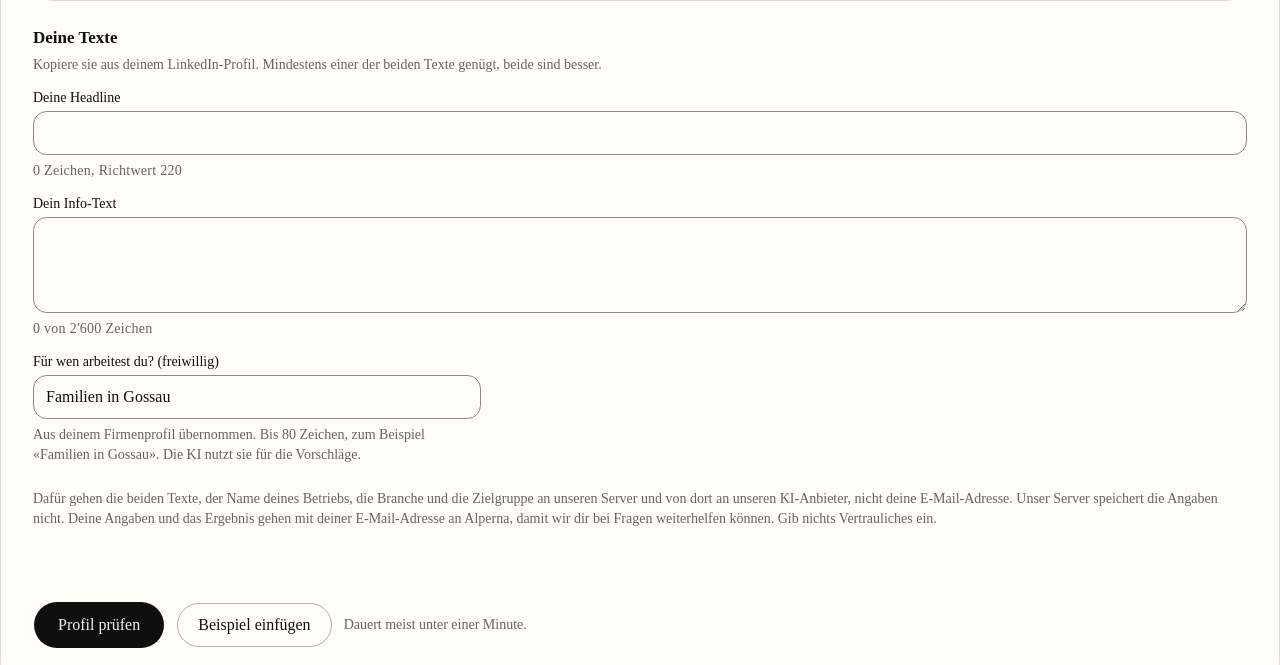
LinkedIn-Profil im Browser › wertet das Beispiel aus: Punktwert 34, Verbesserungen, drei Headlines und neuer Anfang mit Kopieren-Knöpfen, Ergebnis ins CRM
This screenshot has width=1280, height=665.
(page scrolled)
Click the button "Beispiel einfügen" at (254, 625), box [177,603,332,647]
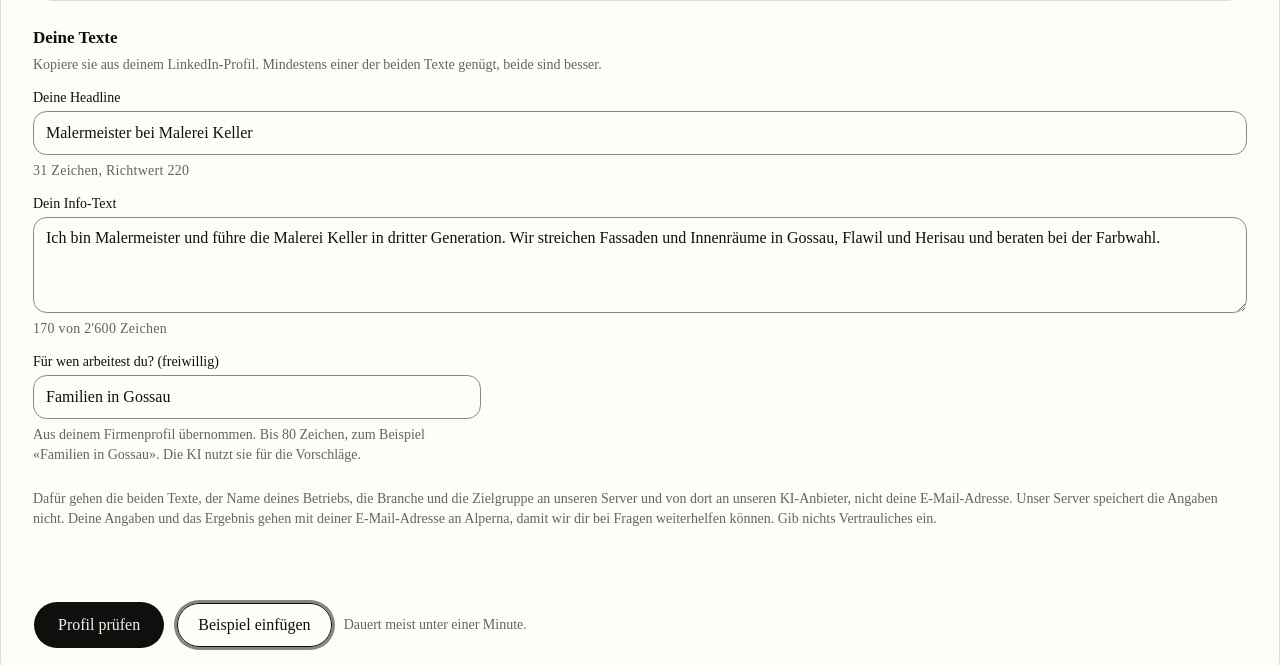
Click the button "Profil prüfen" at (99, 625), box [33,601,165,649]
(page scrolled)
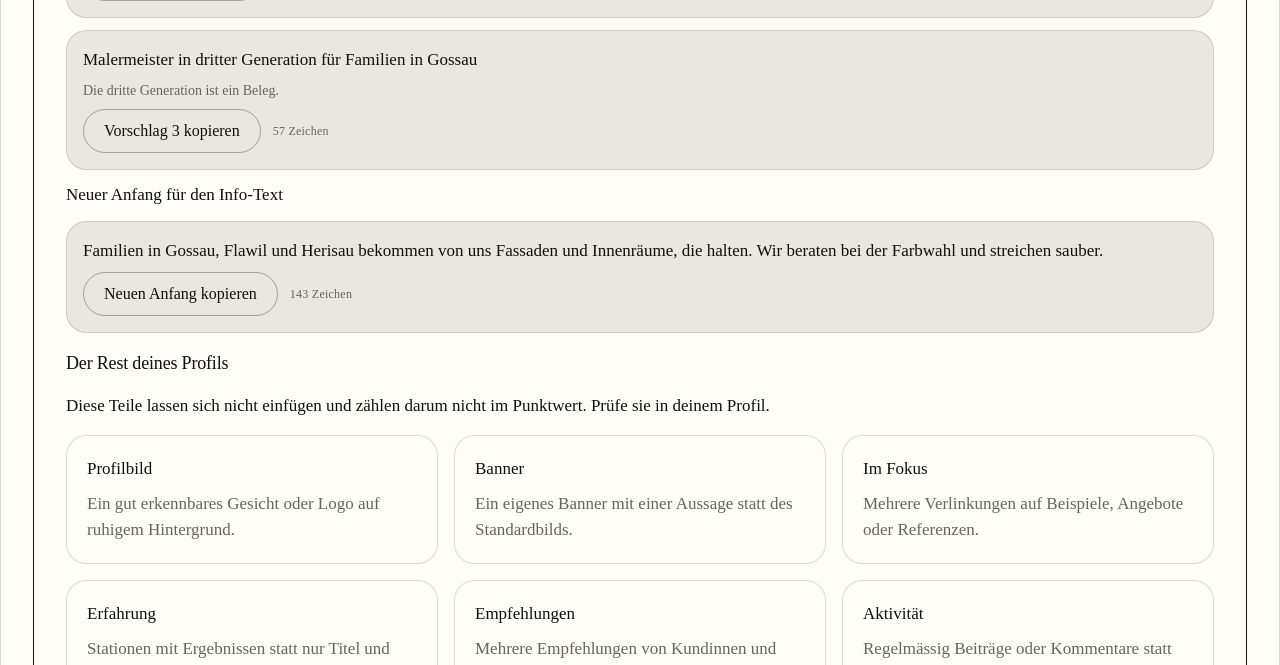
Expected: the button "Vorschlag 3 kopieren" is shown, [83,109,261,153]
Expected: the element with test id "lp-info" shows "Familien in Gossau, Flawil und Herisau bekommen von uns Fassaden und Innenräume, die halten. Wir beraten bei der Farbwahl und streichen sauber.", [83,240,1103,260]
Expected: the button "Neuen Anfang kopieren" is shown, [83,272,278,316]
